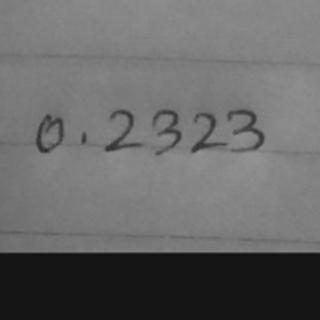.: (75, 130, 94, 145)
0: (34, 113, 68, 155)
2: (106, 108, 139, 154), (191, 113, 227, 152)
3: (224, 104, 264, 153), (151, 110, 183, 157)
